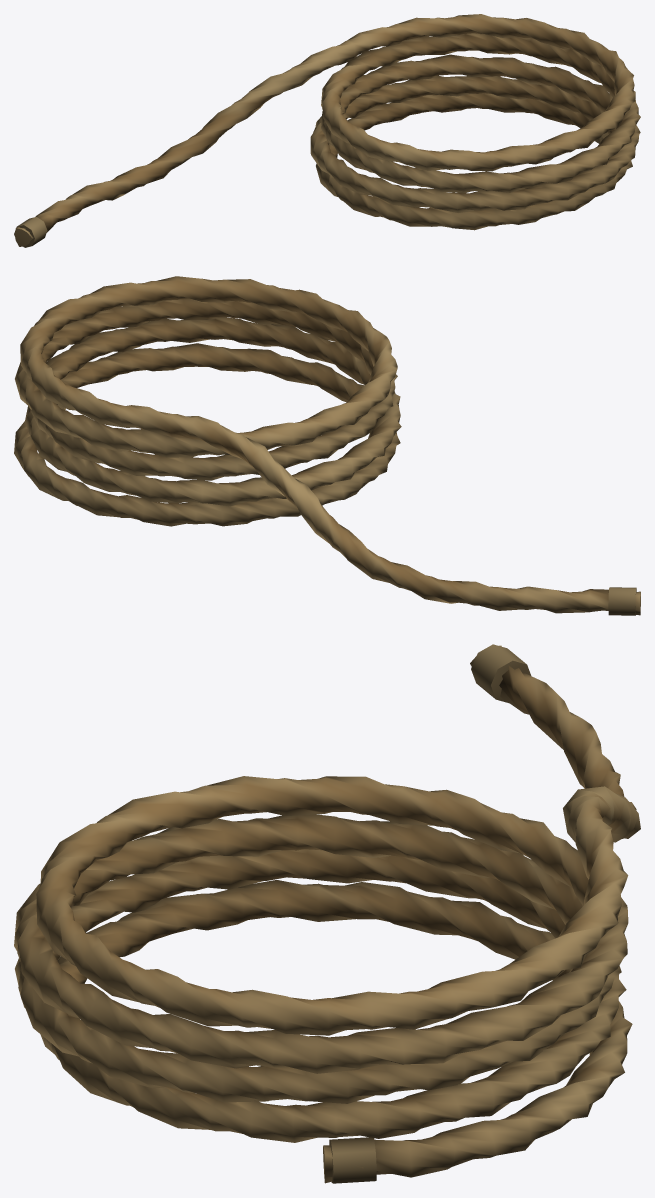
The model's file is rope-coil.5d3855d3.glb.
3 views of the same model, one above another, from view 1: azimuth 30°, elevation 25°; view 2: azimuth 150°, elevation 25°; view 3: azimuth 270°, elevation 25° (orthographic). The views are drawn at different scales.
Parts seen in each view (by area): view 1: rope_coil; view 2: rope_coil; view 3: rope_coil.
Part boxes in pixels (x1,y1,x2,y2): rope_coil: (14,14,640,247); rope_coil: (14,276,640,615); rope_coil: (14,644,640,1183).
Bounding box in the file's own units: 0.3347 × 0.0601 × 0.1732.
